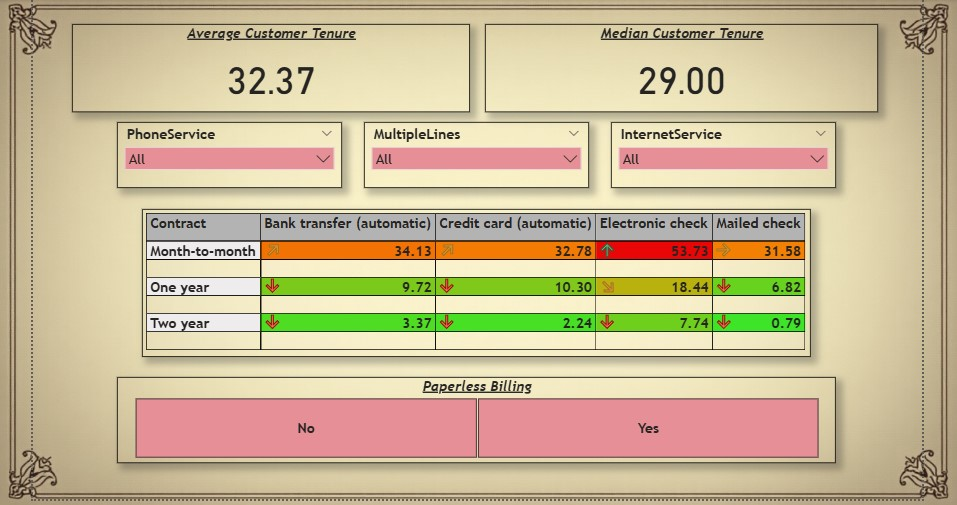

This screenshot's page, from the dashboard's own definition file:
{"tool":"powerbi","page":{"name":"Churn Analysis","canvas":[1280,720],"ordinal":2},"visuals":[{"type":"card","title":"Average Customer Tenure","fields":{"Values":["Telco_Customer_Churn_Dataset  (2).Average Tenure"]},"box":[56.2,36,573.1,126.7],"z":0},{"type":"card","title":"Median Customer Tenure","fields":{"Values":["Telco_Customer_Churn_Dataset  (2).Median Tenure"]},"box":[650.9,36,565.9,126.7],"z":1000},{"type":"pivotTable","fields":{"Rows":["Telco_Customer_Churn_Dataset  (2).Contract"],"Columns":["Telco_Customer_Churn_Dataset  (2).PaymentMethod"],"Values":["Telco_Customer_Churn_Dataset  (2).Churn Rate (%)"]},"box":[157,302.4,963.4,213.1],"z":2000},{"type":"slicer","title":"Paperless Billing","fields":{"Values":["Telco_Customer_Churn_Dataset  (2).PaperlessBilling"]},"box":[121,544.3,1035.4,123.8],"z":2001},{"type":"slicer","fields":{"Values":["Telco_Customer_Churn_Dataset  (2).PhoneService"]},"box":[121,177.1,324,95],"z":2002},{"type":"slicer","fields":{"Values":["Telco_Customer_Churn_Dataset  (2).MultipleLines"]},"box":[476.6,177.1,324,95],"z":2003},{"type":"slicer","fields":{"Values":["Telco_Customer_Churn_Dataset  (2).InternetService"]},"box":[832.3,177.1,324,95],"z":2004}]}

Visuals, with their boxes on the page's 1280x720 design canvas (x1, y1, x2, y2). These are canvas units, not pixel positions in the 957x505 screenshot, which may show the page scaled, cropped or inside an application window:
"Average Customer Tenure" card: pyautogui.locateOnScreen(56, 36, 629, 163)
"Median Customer Tenure" card: pyautogui.locateOnScreen(651, 36, 1217, 163)
pivotTable - Telco_Customer_Churn_Dataset  (2).Contract x Telco_Customer_Churn_Dataset  (2).PaymentMethod: pyautogui.locateOnScreen(157, 302, 1120, 516)
"Paperless Billing" slicer: pyautogui.locateOnScreen(121, 544, 1156, 668)
slicer - Telco_Customer_Churn_Dataset  (2).PhoneService: pyautogui.locateOnScreen(121, 177, 445, 272)
slicer - Telco_Customer_Churn_Dataset  (2).MultipleLines: pyautogui.locateOnScreen(477, 177, 801, 272)
slicer - Telco_Customer_Churn_Dataset  (2).InternetService: pyautogui.locateOnScreen(832, 177, 1156, 272)
